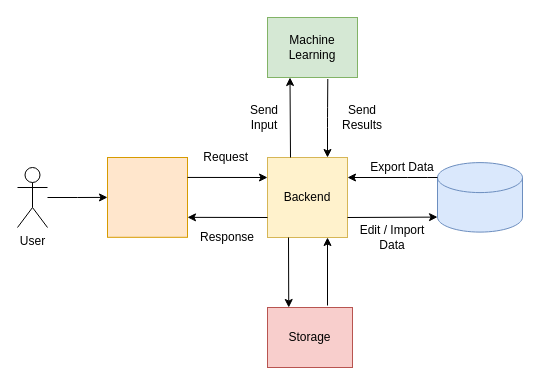
Image size: 540x385. Some labels were removed from this diagram. The box of each missing label's shape, as (x1, y1, x2, y2) in pixels:
Database: (436, 162, 522, 232)
Frontend: (106, 156, 188, 237)
